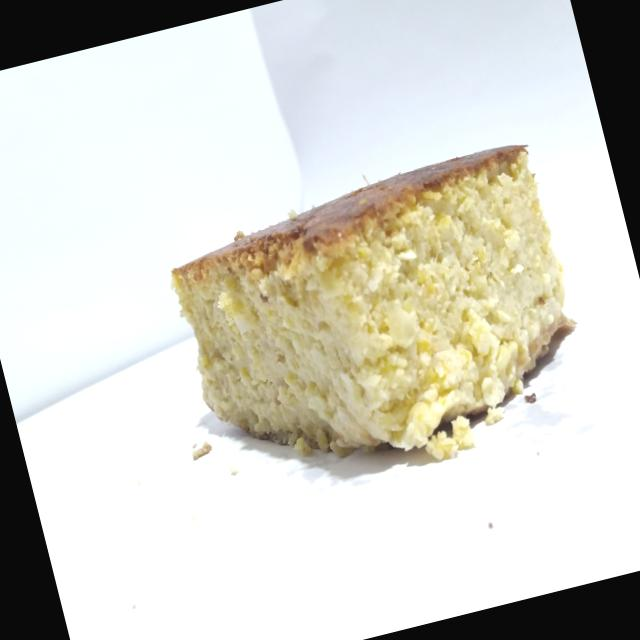Chipa_Guazu: (143, 112, 613, 520)
